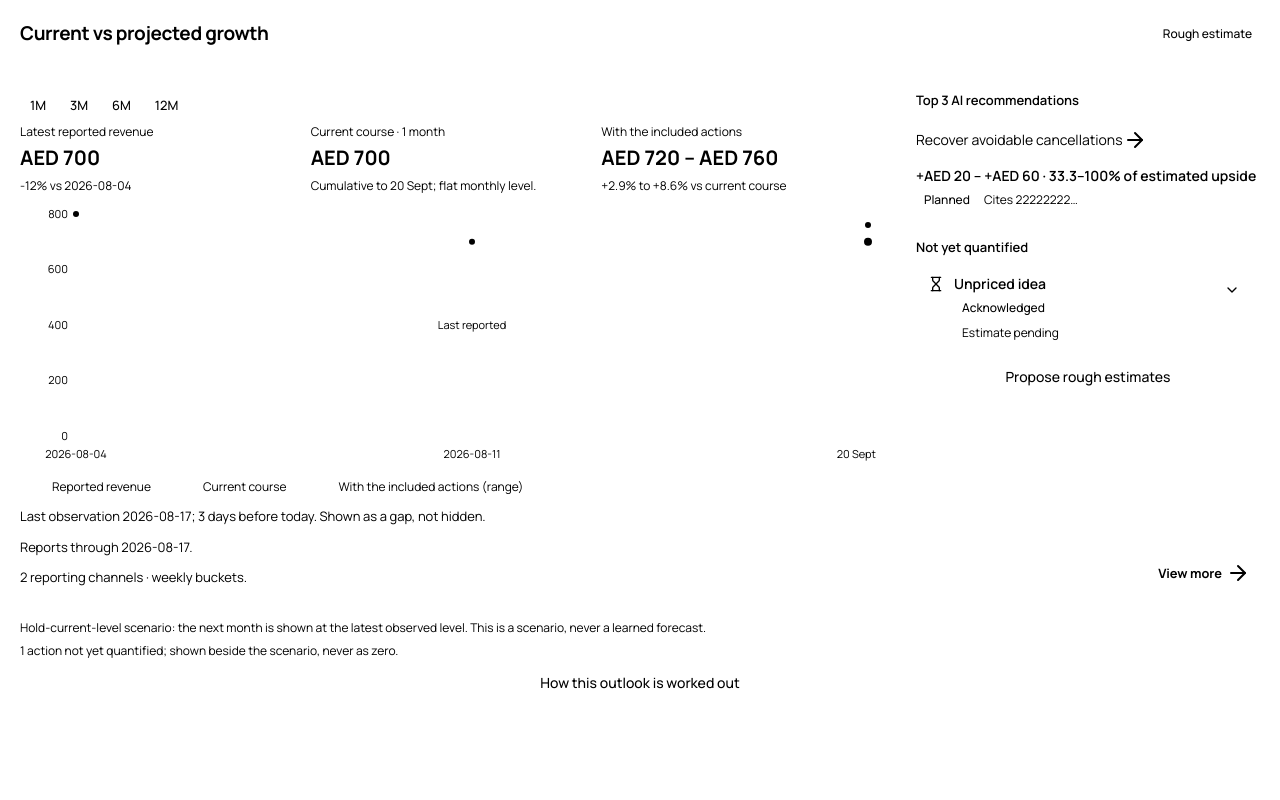
HomeRevenue › swaps in the proposed scenario after the button posts
Click the button "Propose rough estimates". click: click(1088, 377)
box: [916,361,1260,393]
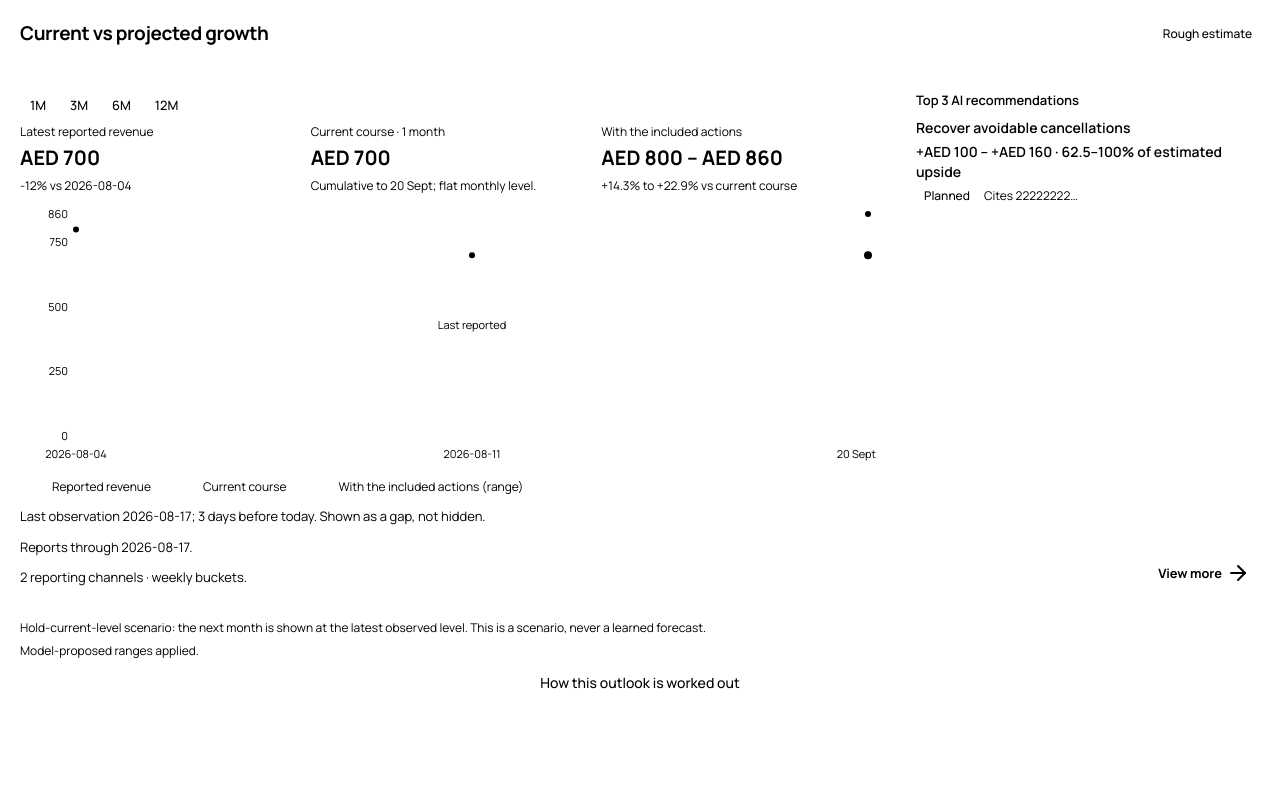
Expected: the list item "Model-proposed ranges applied." is shown, [20,642,199,659]
